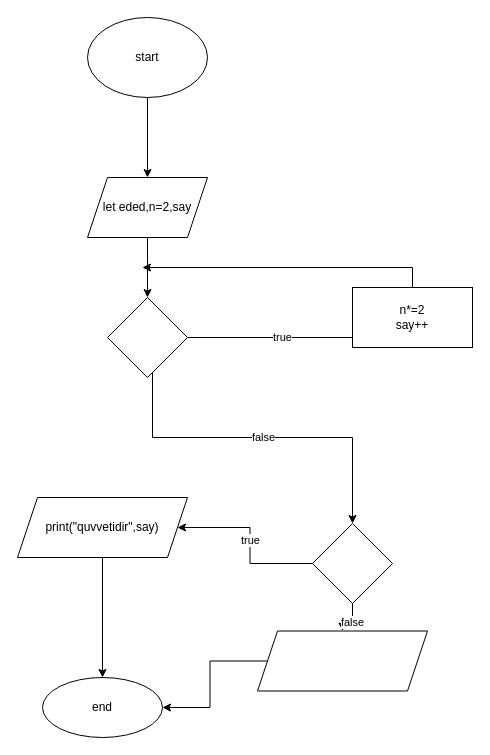
Image size: 490x755. Some labels were removed from this diagram. The box of each missing label's shape, as (x1, y1, x2, y2) in pixels:
if eded==n: (312, 522, 392, 604)
if eded>n: (106, 296, 188, 378)
print("quveti deyil"): (256, 630, 428, 691)
